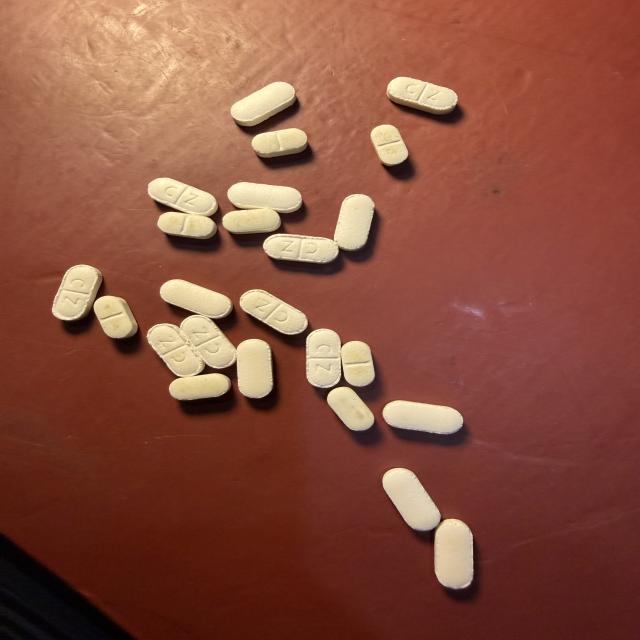pill: (383, 468, 440, 531), (240, 290, 308, 334), (147, 324, 204, 376), (181, 315, 235, 368), (231, 82, 295, 126), (52, 265, 102, 320), (160, 280, 232, 318), (435, 519, 473, 589), (148, 178, 217, 216), (387, 77, 457, 114), (383, 401, 463, 433), (228, 182, 302, 213), (334, 195, 374, 250), (264, 234, 338, 263), (237, 339, 273, 398), (327, 387, 374, 430), (307, 329, 341, 388), (94, 296, 137, 338), (169, 374, 231, 400), (158, 212, 216, 239), (252, 129, 307, 157), (371, 125, 408, 166), (341, 341, 374, 386), (223, 209, 281, 234)
